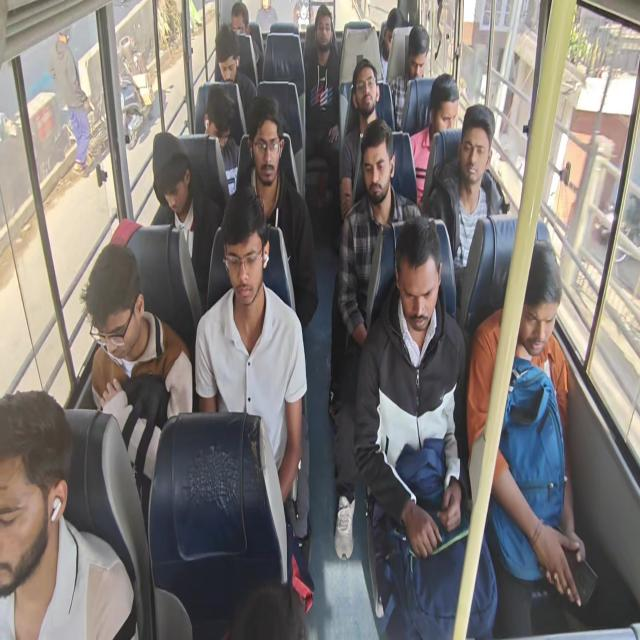person: (0, 399, 69, 605), (84, 263, 149, 357), (388, 221, 436, 332), (218, 213, 272, 310), (514, 265, 561, 350), (148, 136, 188, 220), (249, 114, 281, 185), (459, 116, 490, 188), (359, 144, 395, 203), (202, 98, 236, 152), (314, 6, 342, 58), (216, 30, 237, 85), (226, 0, 256, 38), (406, 44, 427, 86), (354, 71, 374, 113), (386, 12, 404, 55)
